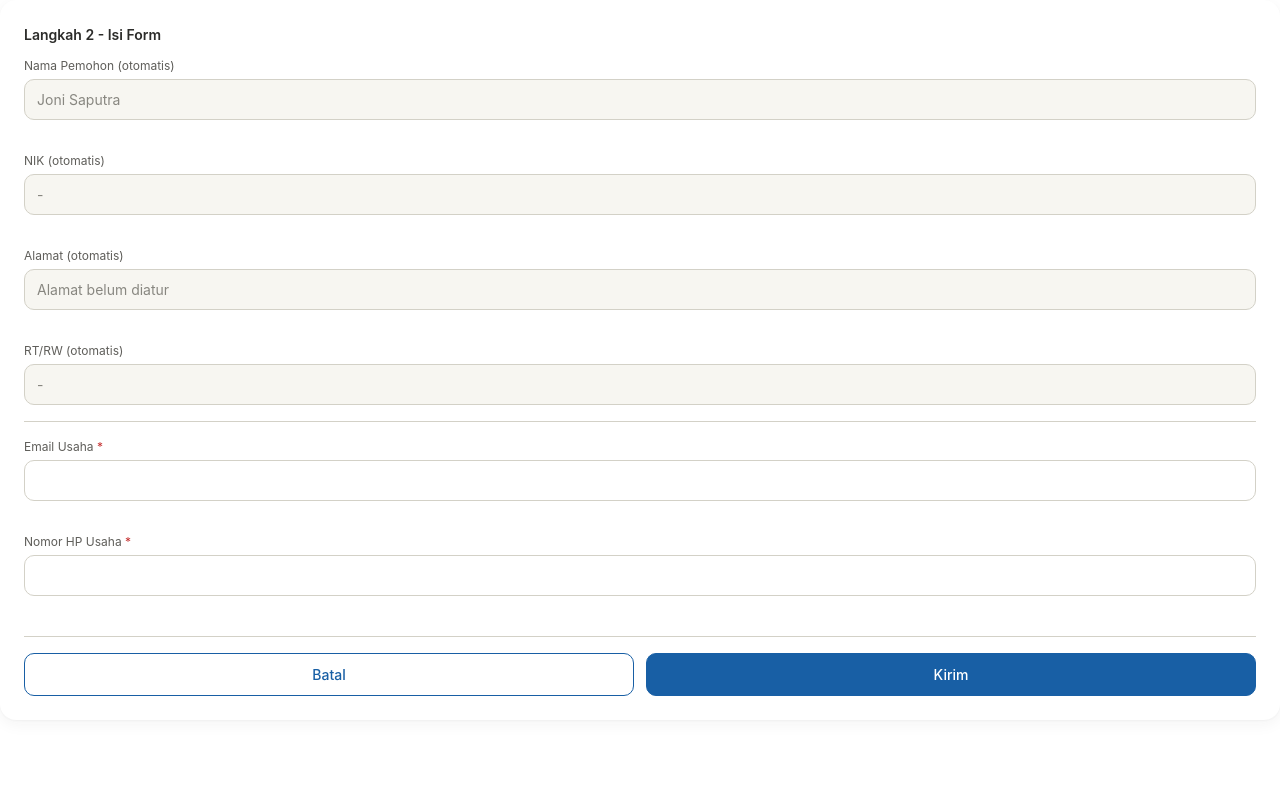
it: DynamicSuratForm email and phone fields › blocks invalid contacts and sends valid ones in the payload
Later steps or results of the test are not shown.
Type "bukan-email" into the field labelled "Email Usaha *". click: (640, 480)
box: left=24, top=460, right=1256, bottom=501
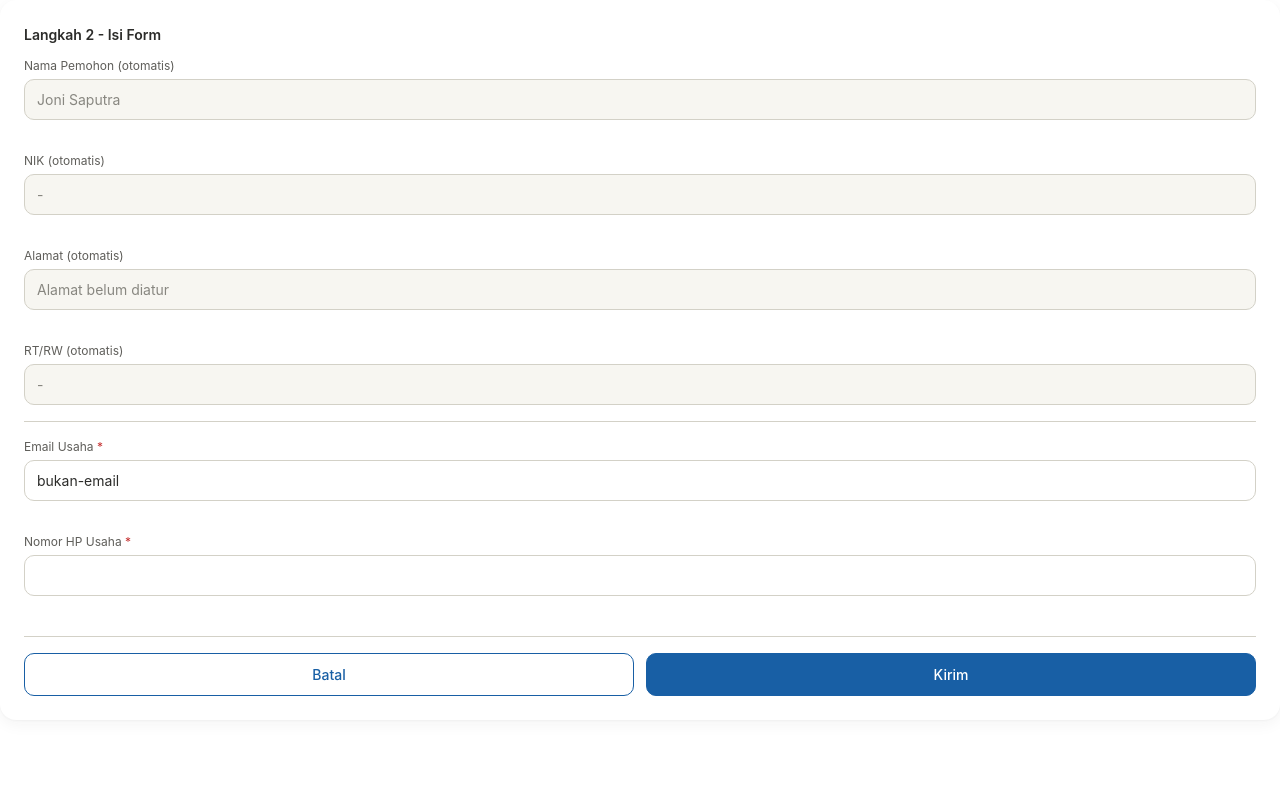
Type "0221234567" into the field labelled "Nomor HP Usaha *". click: (640, 576)
box: left=24, top=555, right=1256, bottom=596
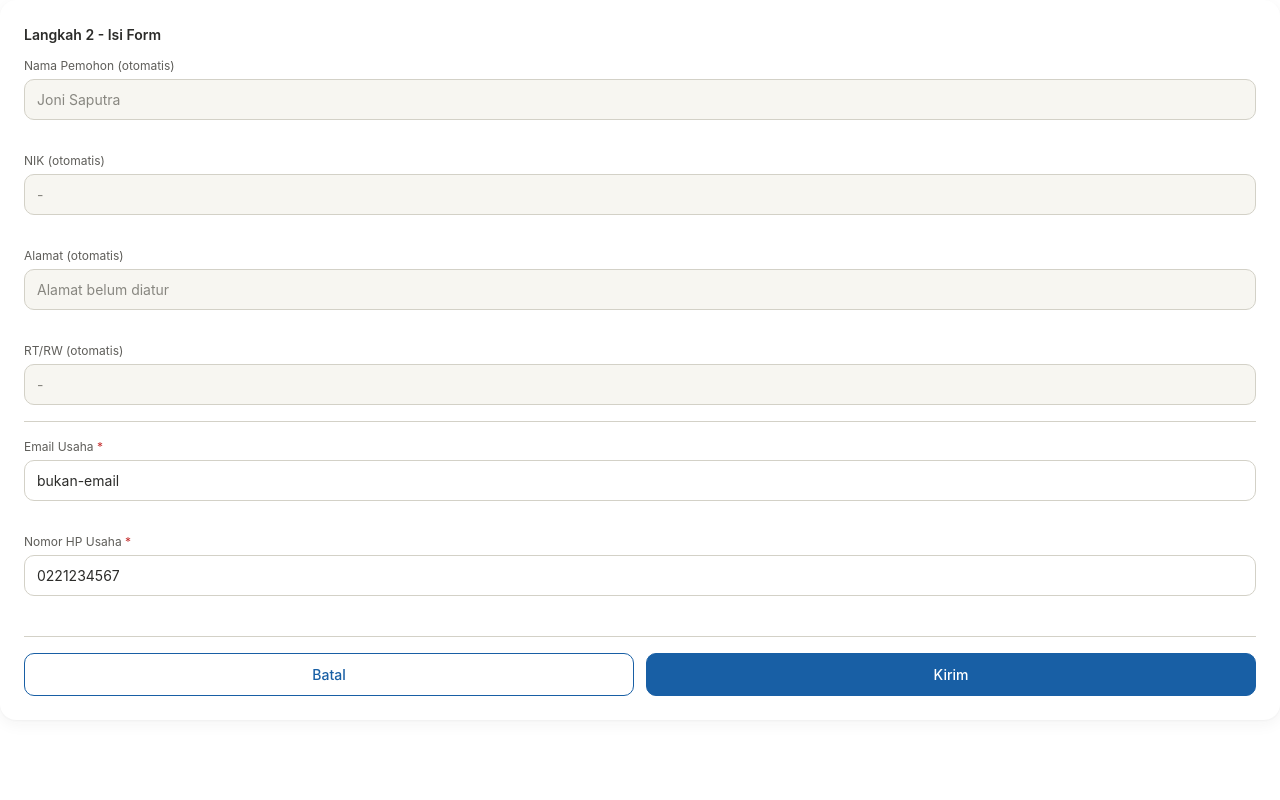
Click the button "Kirim". click: (951, 674)
box: left=646, top=653, right=1256, bottom=696
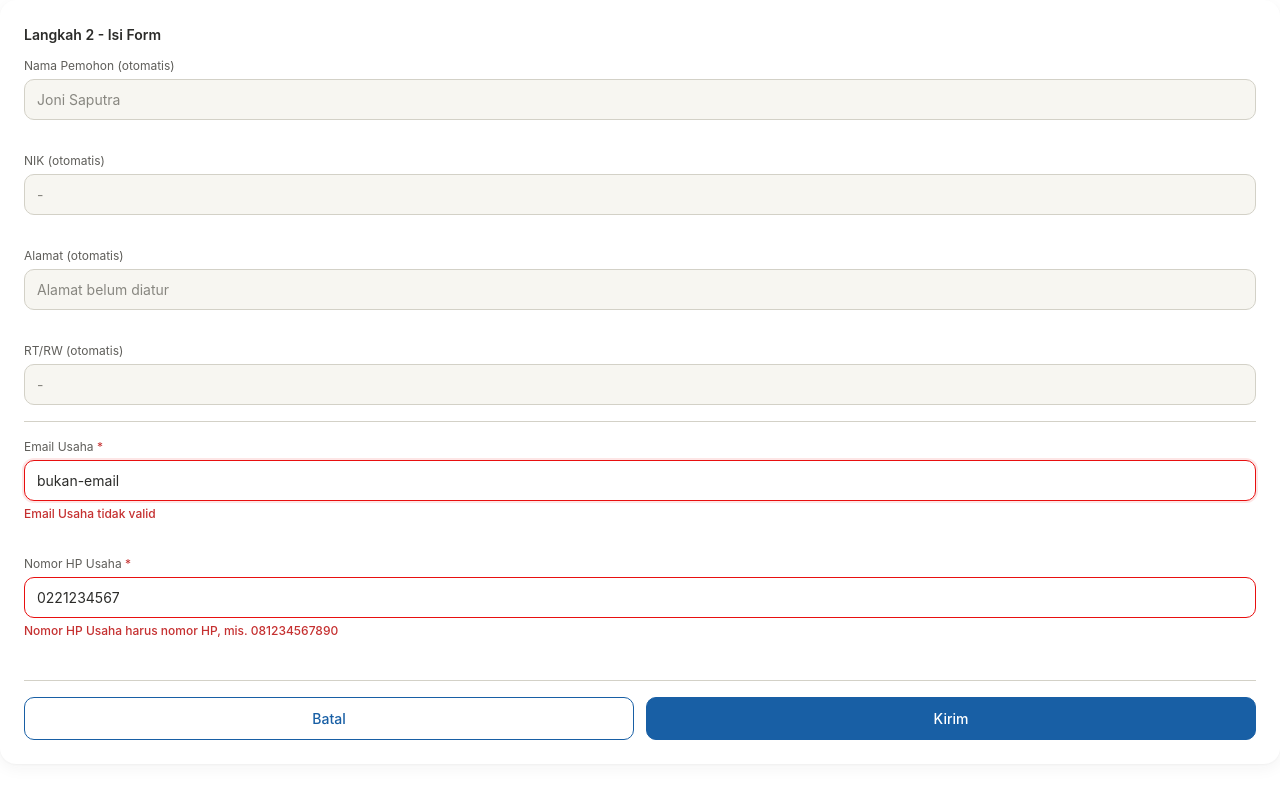
Now the text "Email Usaha tidak valid" is shown, box left=24, top=506, right=156, bottom=521
Now the text "Nomor HP Usaha harus nomor HP, mis. 081234567890" is shown, box left=24, top=623, right=338, bottom=638
